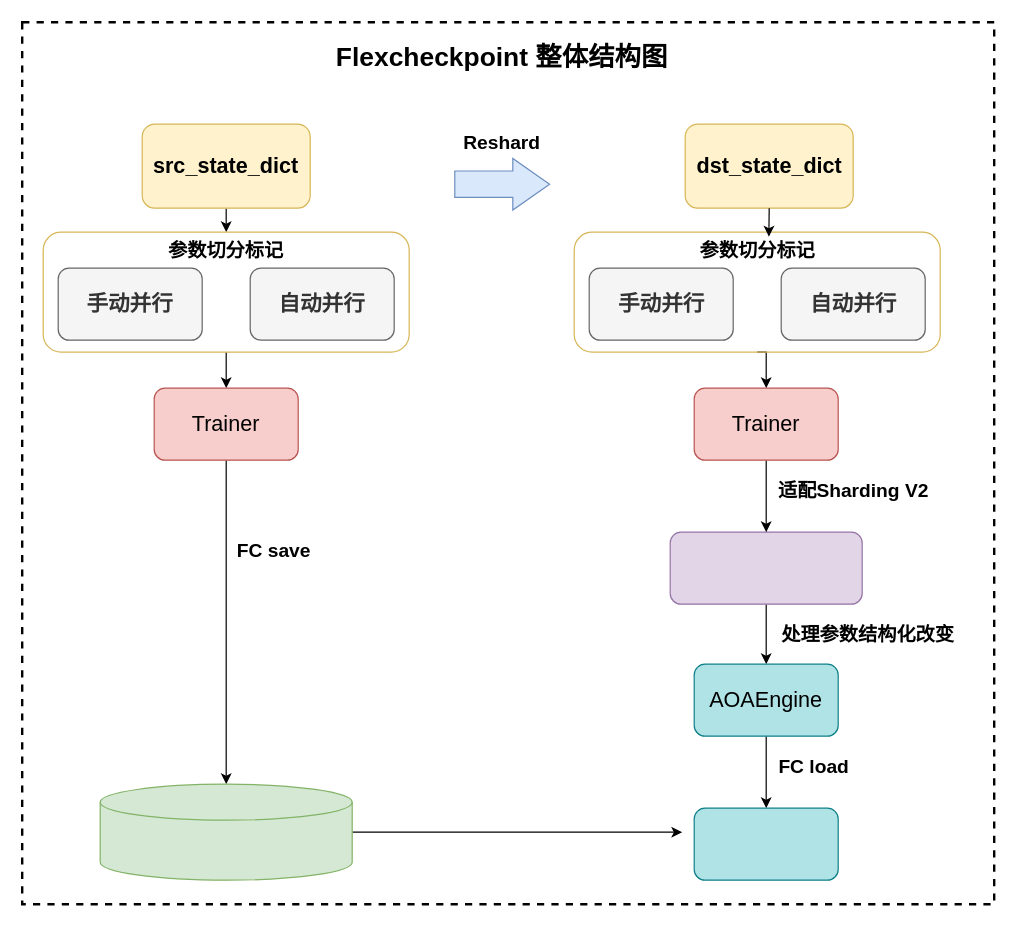
Some shapes in this 1015 by 925 pixel diagram are drawn without their labels. The centre of each missing label's shape, as x and y in pixels:
"align_param" belongs at pixel 765 843.
"paddle checkpoint + DCP metadata file" belongs at pixel 225 831.
"unflatten_restore" belongs at pixel 765 567.
